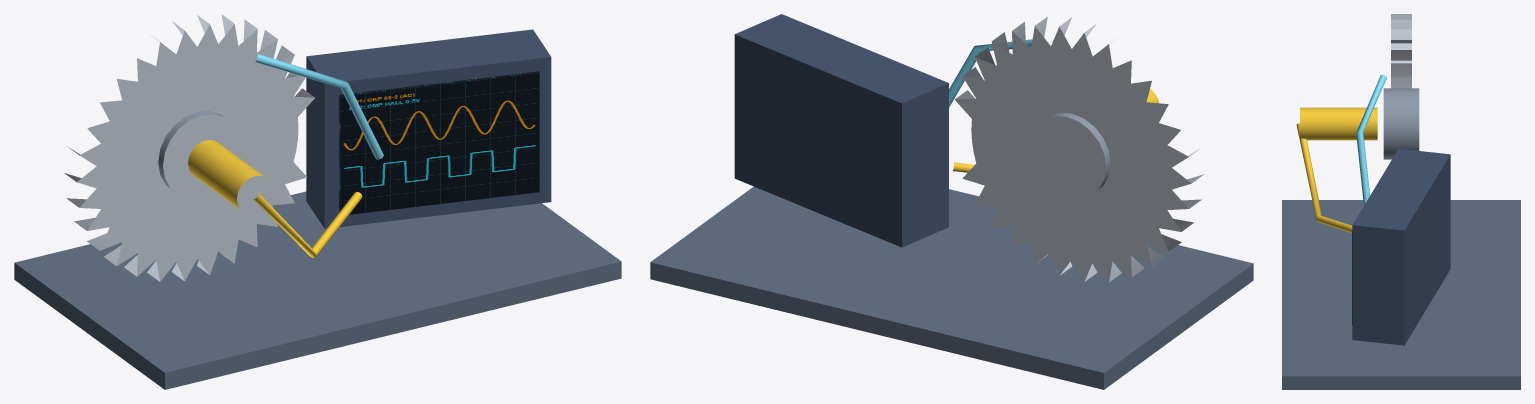
File: autoel-sensors.glb
The picture shows the model from 3 angles, left to right: view 1: azimuth 30°, elevation 25°; view 2: azimuth 150°, elevation 25°; view 3: azimuth 270°, elevation 25°; orthographic projection. The views are drawn at different scales.
Parts seen in each view (by area): view 1: Base_Bench, Trigger_Gear_60_2, Scope_Screen, Scope_Housing, Inductive_CKP, Probe_Wire_2, Probe_Wire_1, Trigger_Hub; view 2: Base_Bench, Trigger_Gear_60_2, Scope_Housing, Probe_Wire_2, Trigger_Hub; view 3: Base_Bench, Scope_Housing, Inductive_CKP, Trigger_Hub, Trigger_Gear_60_2, Probe_Wire_2, Probe_Wire_1.
Part boxes in pixels (left/top/right/bottom): Base_Bench: left=14, top=191, right=621, bottom=389; Trigger_Gear_60_2: left=64, top=14, right=314, bottom=281; Scope_Screen: left=339, top=71, right=539, bottom=214; Scope_Housing: left=306, top=29, right=551, bottom=228; Inductive_CKP: left=188, top=140, right=265, bottom=209; Probe_Wire_2: left=255, top=54, right=383, bottom=159; Probe_Wire_1: left=253, top=192, right=362, bottom=257; Trigger_Hub: left=158, top=111, right=224, bottom=192; Base_Bench: left=650, top=186, right=1253, bottom=389; Trigger_Gear_60_2: left=954, top=16, right=1204, bottom=282; Scope_Housing: left=734, top=14, right=948, bottom=247; Probe_Wire_2: left=949, top=39, right=1032, bottom=107; Trigger_Hub: left=1045, top=112, right=1110, bottom=193; Base_Bench: left=1282, top=200, right=1520, bottom=389; Scope_Housing: left=1352, top=148, right=1450, bottom=345; Inductive_CKP: left=1300, top=107, right=1377, bottom=140; Trigger_Hub: left=1383, top=88, right=1419, bottom=159; Trigger_Gear_60_2: left=1391, top=14, right=1411, bottom=160; Probe_Wire_2: left=1356, top=74, right=1386, bottom=205; Probe_Wire_1: left=1296, top=123, right=1352, bottom=232.
Bounding box in the file's own units: 2.92 × 1.69 × 1.6.
8 materials, 1 textured.
